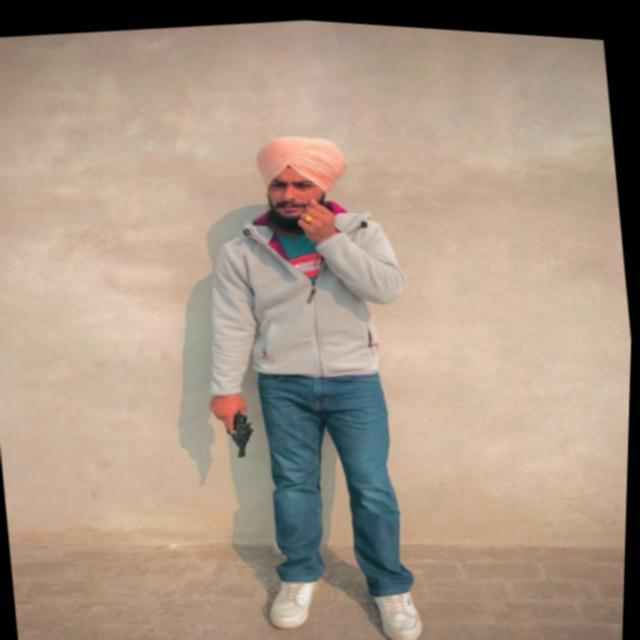weapon: (216, 401, 263, 458)
